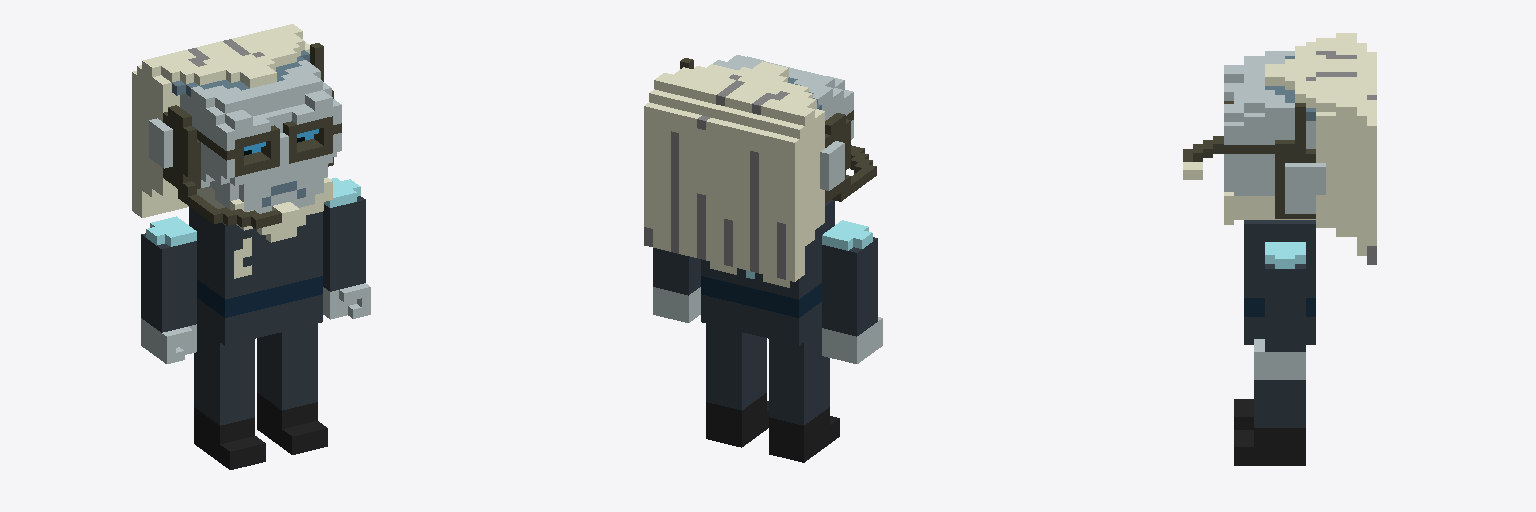
The picture shows the model from 3 angles: view 1: azimuth 30°, elevation 25°; view 2: azimuth 150°, elevation 25°; view 3: azimuth 270°, elevation 25°; orthographic projection.
Visible parts, largest first — view 1: ObjObject; view 2: ObjObject; view 3: ObjObject.
Boxes of the visible parts, x1,y1,x2,y2 form: ObjObject: [132, 24, 370, 469]; ObjObject: [644, 55, 882, 462]; ObjObject: [1183, 33, 1376, 465].
Size of the model in its own units: 2.3 by 4 by 1.9.
Materials: 1 (1 with a texture image).